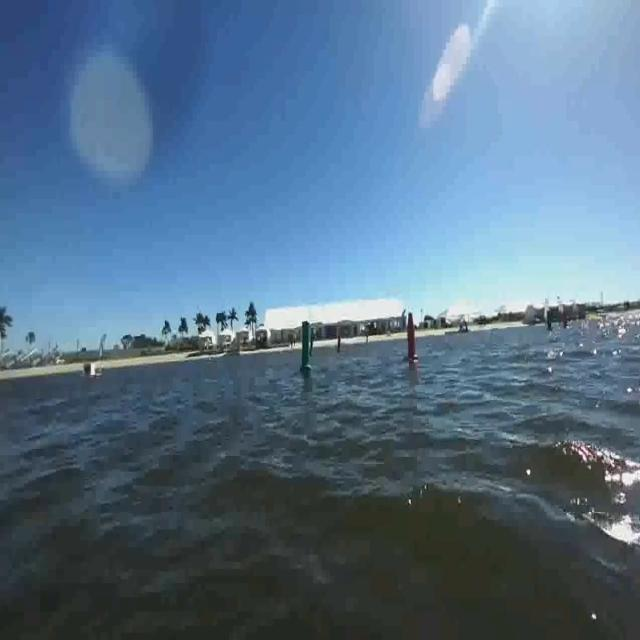green-column-buoy: (300, 321, 316, 374)
red-column-buoy: (404, 313, 421, 365)
